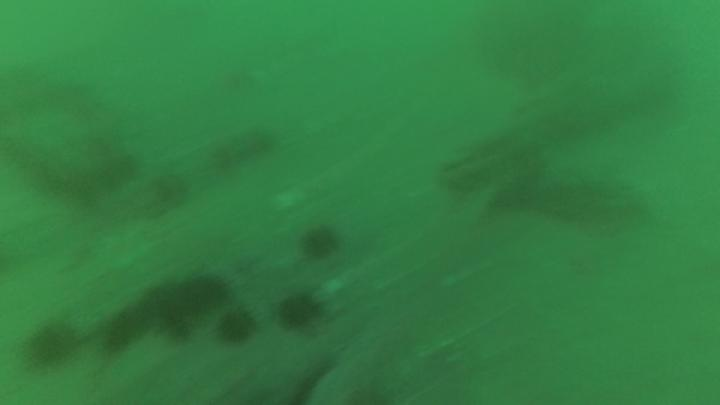echinus: (90, 295, 154, 361), (135, 286, 197, 351), (171, 269, 239, 316), (271, 288, 333, 338), (209, 304, 266, 352), (29, 323, 77, 368), (301, 226, 339, 263)
